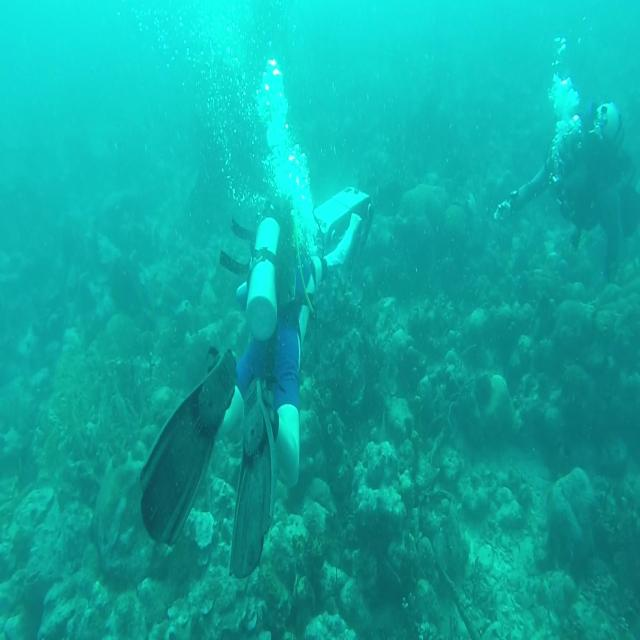human: (139, 183, 373, 578), (493, 82, 639, 283)
